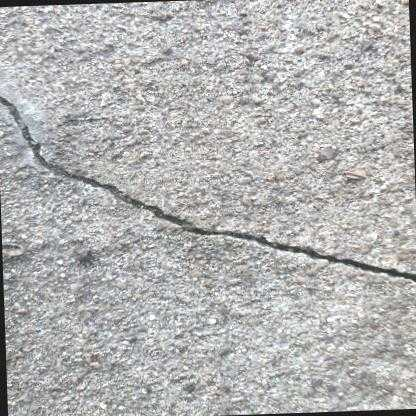crack: (0, 94, 416, 287)
